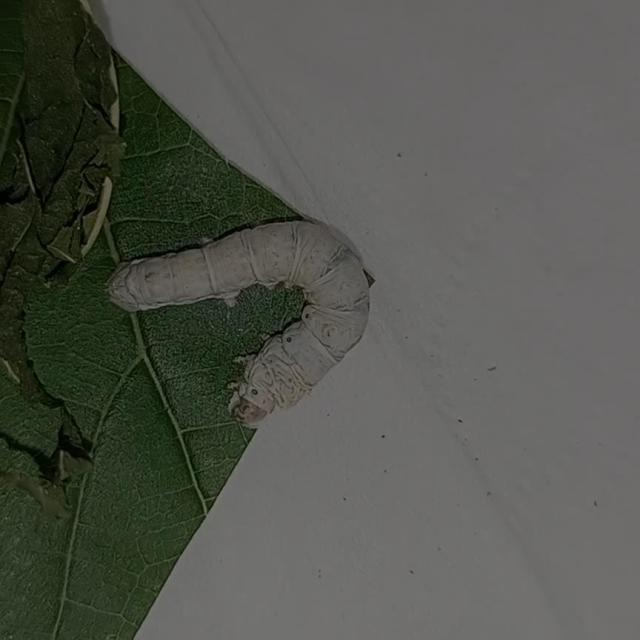Healthy: (78, 192, 394, 483)
